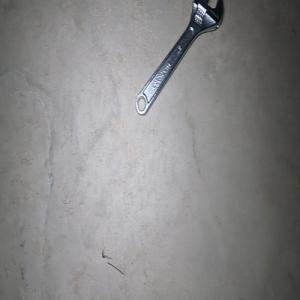Wrench: (134, 0, 223, 115)
